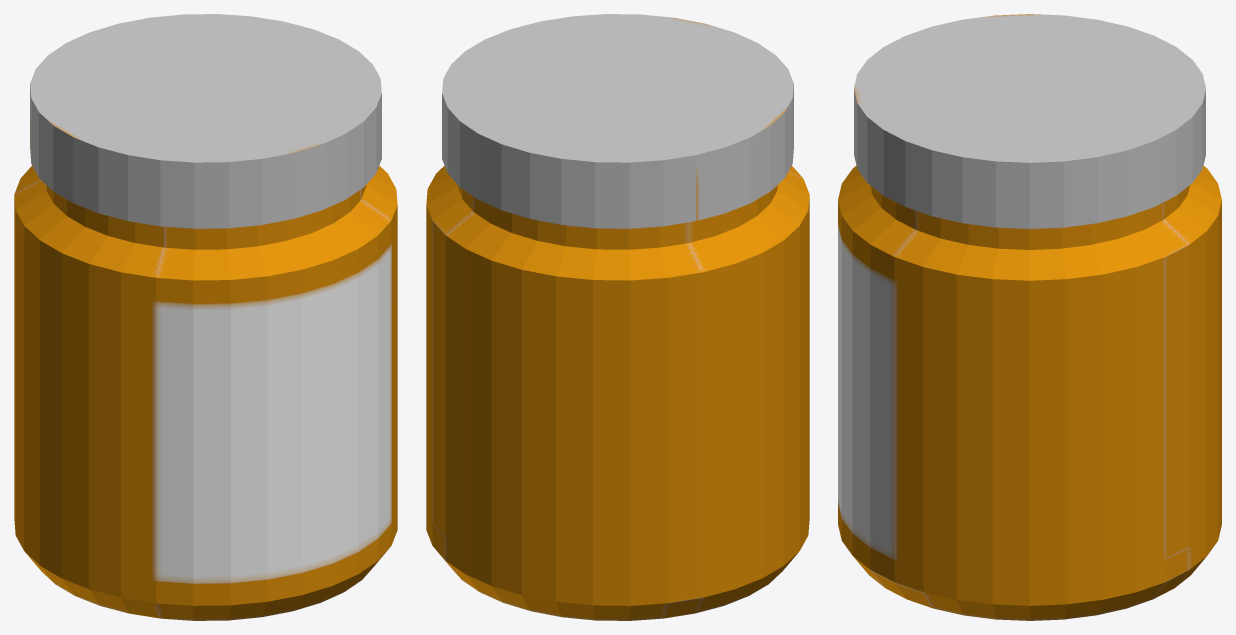
Rendered from br_pills.glb.
3 renders of one model, left to right at view 1: azimuth 30°, elevation 25°; view 2: azimuth 150°, elevation 25°; view 3: azimuth 270°, elevation 25°, orthographic.
Parts seen in each view (by area): view 1: Pill Bottle; view 2: Pill Bottle; view 3: Pill Bottle.
Part boxes in pixels (left/top/right/bottom): Pill Bottle: left=14, top=14, right=397, bottom=620; Pill Bottle: left=426, top=14, right=809, bottom=620; Pill Bottle: left=838, top=14, right=1221, bottom=620.
Bounding box in the file's own units: 0.2 × 0.2639 × 0.2.
Materials: 1 (1 with a texture image).
